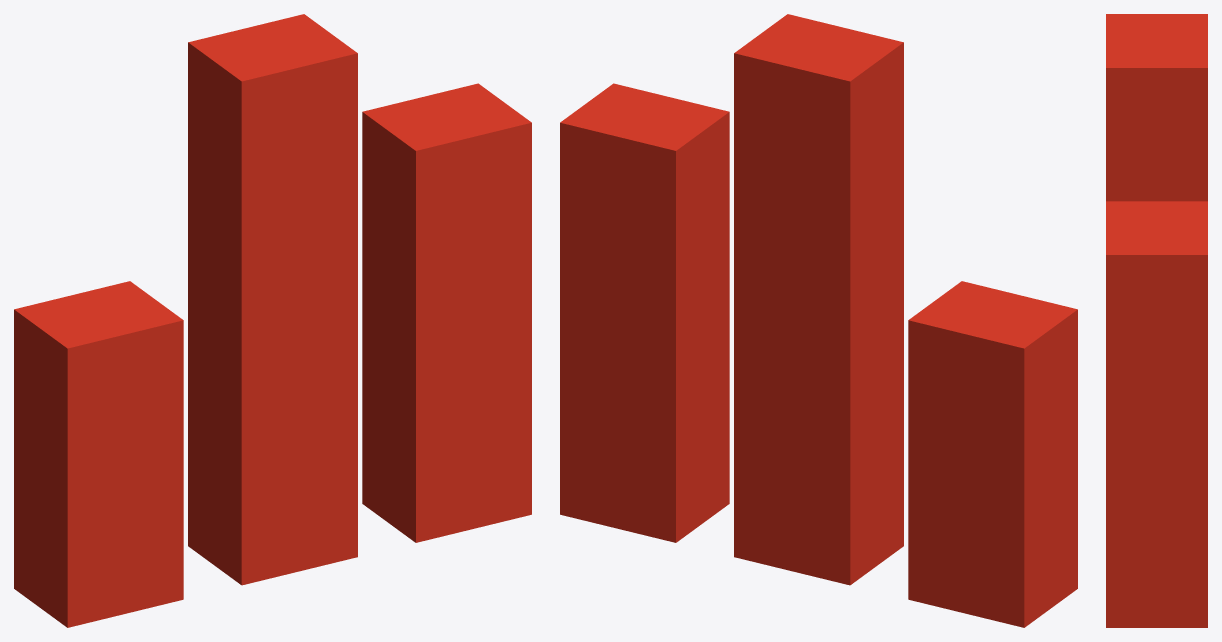
File: Icon_Chart_02.fbx
The picture shows the model from 3 angles, left to right: view 1: azimuth 30°, elevation 25°; view 2: azimuth 150°, elevation 25°; view 3: azimuth 270°, elevation 25°; orthographic projection. The views are drawn at different scales.
Parts seen in each view (by area): view 1: Icon_Chart_02; view 2: Icon_Chart_02; view 3: Icon_Chart_02.
Boxes of the visible parts, x1,y1,x2,y2 form: Icon_Chart_02: [14, 14, 531, 627]; Icon_Chart_02: [560, 14, 1077, 627]; Icon_Chart_02: [1106, 14, 1207, 627].
Bounding box in the file's own units: 60.34 × 62.57 × 12.06.
